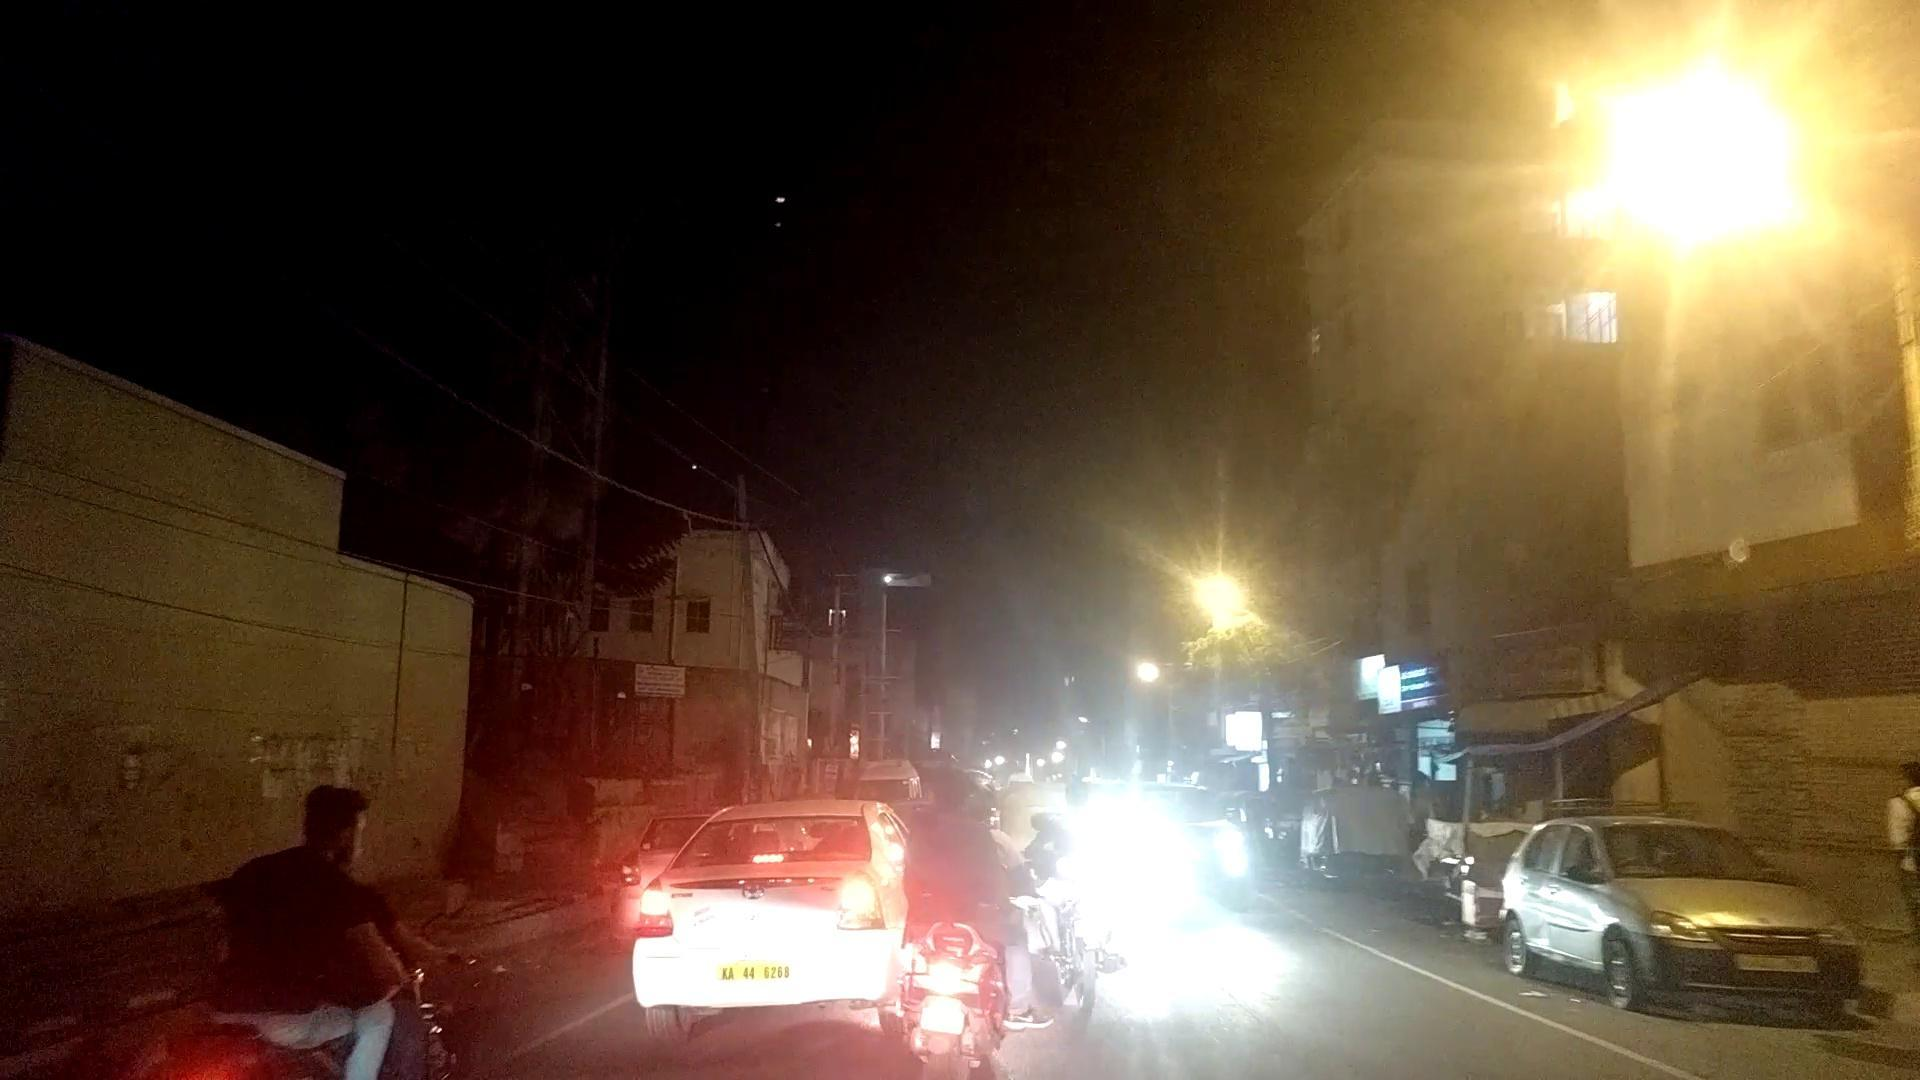on: (1540, 0, 1887, 491)
